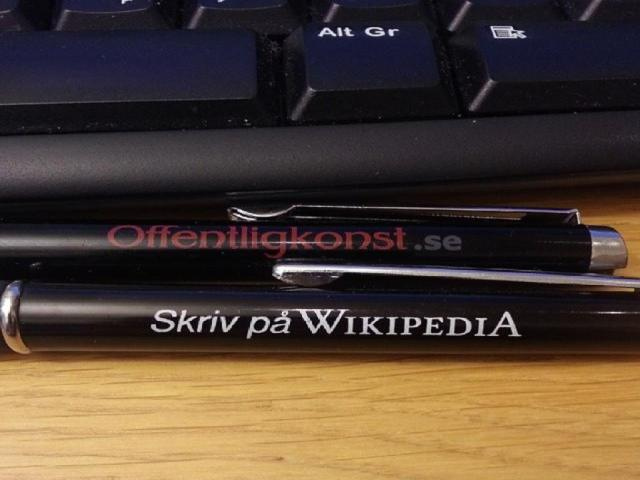PEN: (0, 182, 640, 276), (5, 262, 640, 356)
